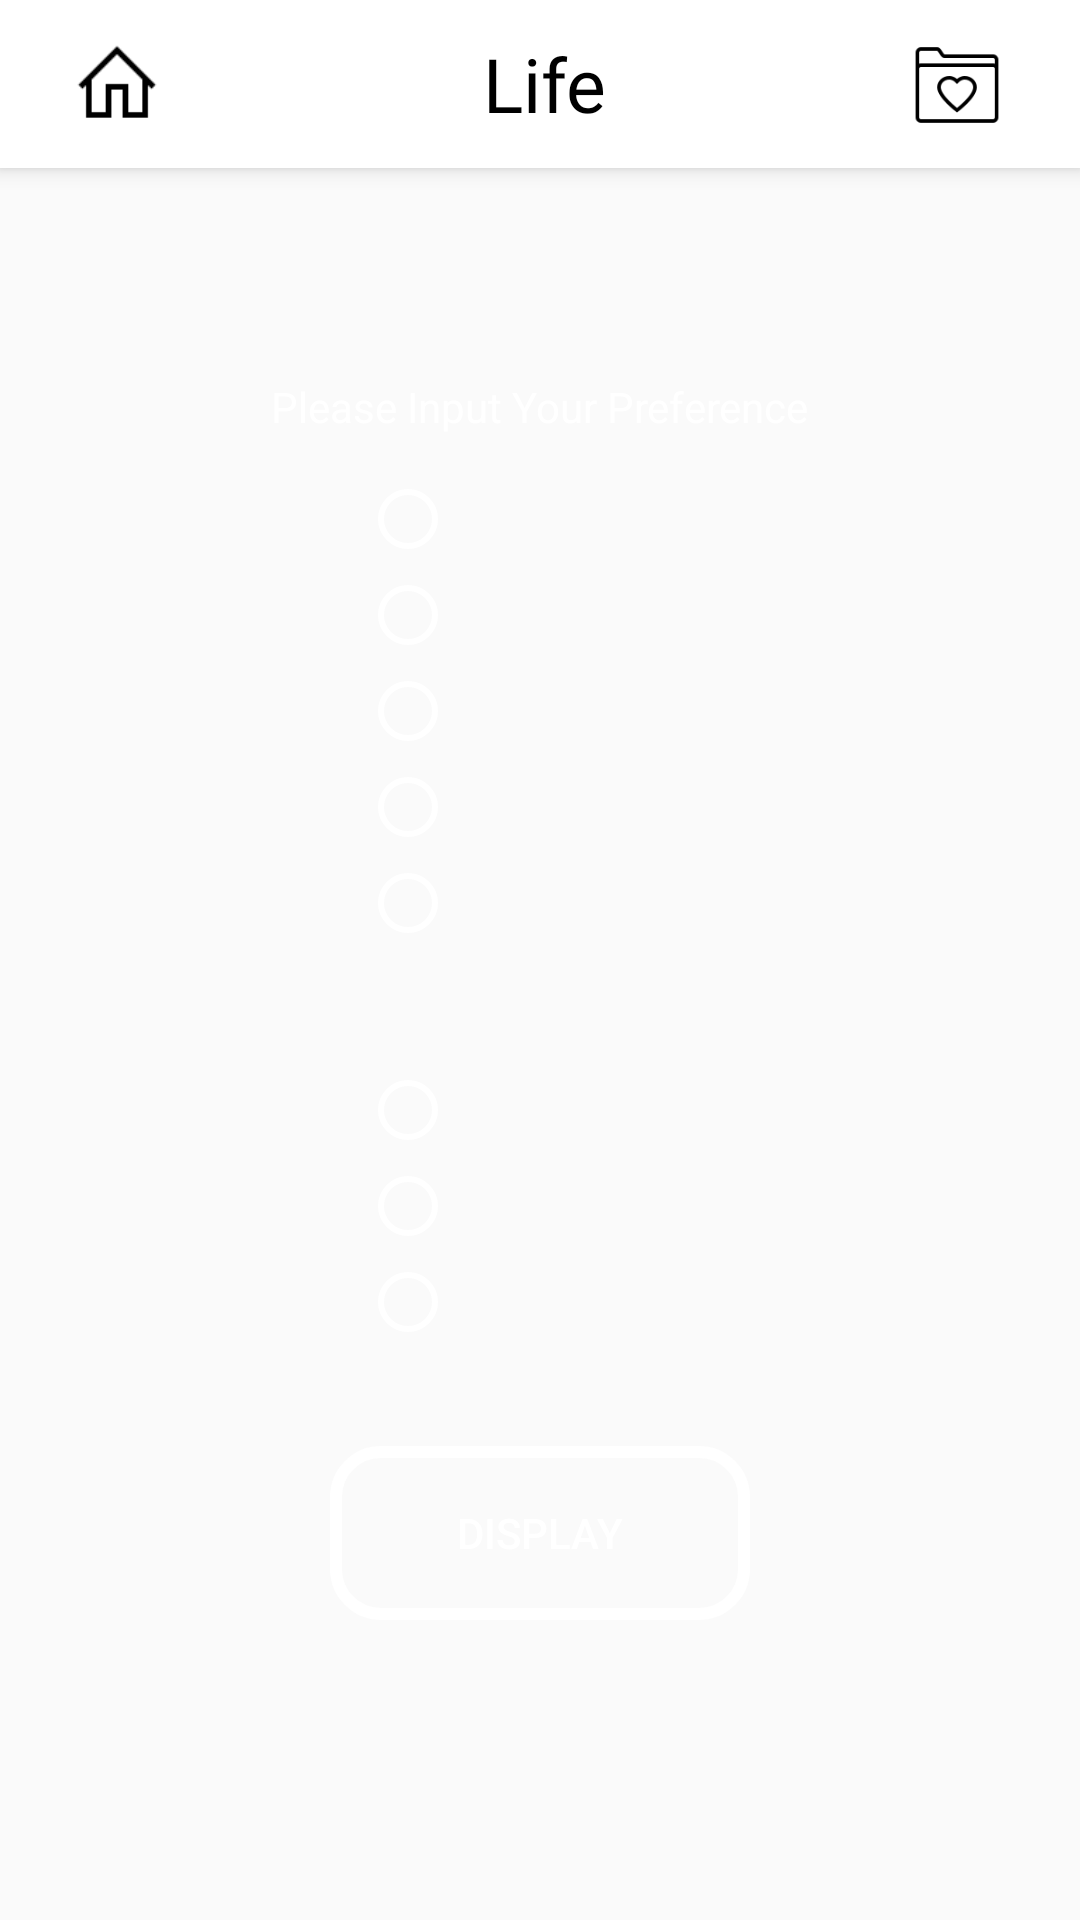

Named icons in this screenshot (1080*1920) and their centers, point (x, y):
favorite folder: point (957, 85)
home: point (117, 82)
